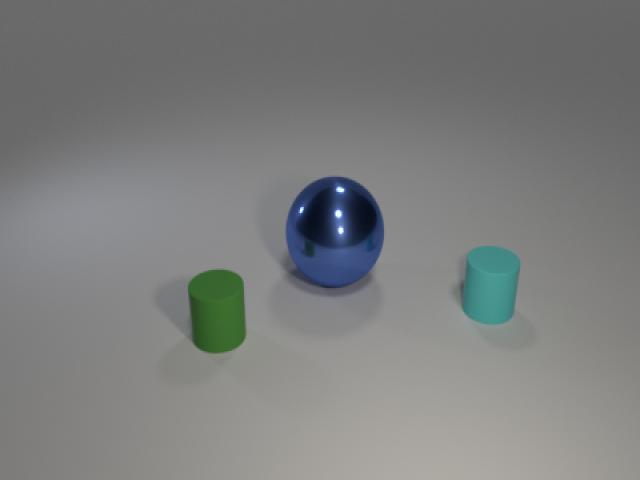cylinder: (181, 260, 254, 361), (455, 239, 527, 334)
round ball: (269, 166, 395, 299)
